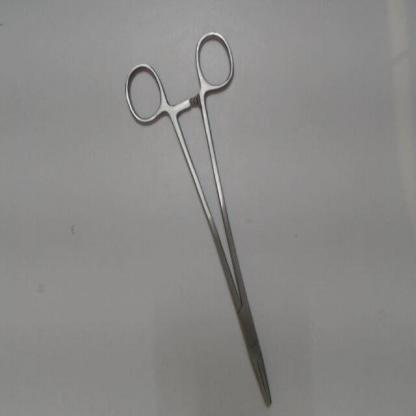8 Mayo Needle Holder: (116, 22, 279, 413)
